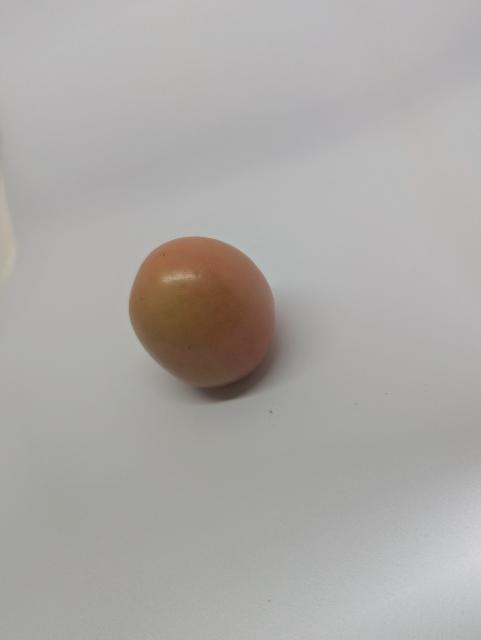turning: (123, 238, 279, 393)
